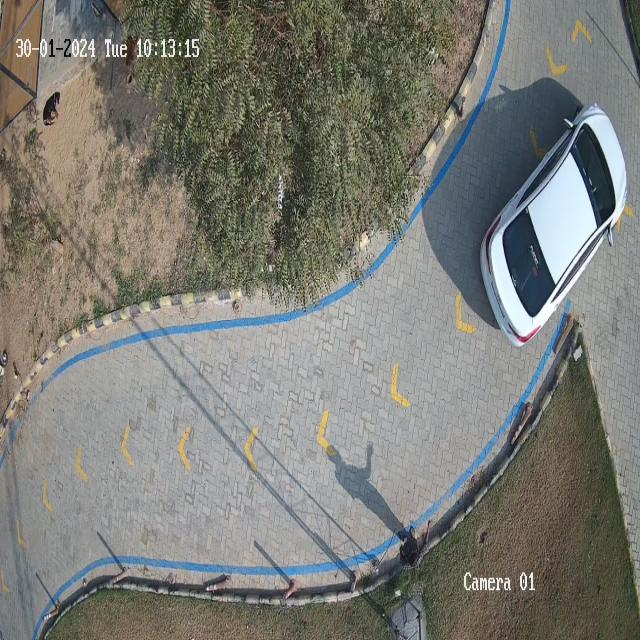car: (476, 105, 628, 348)
